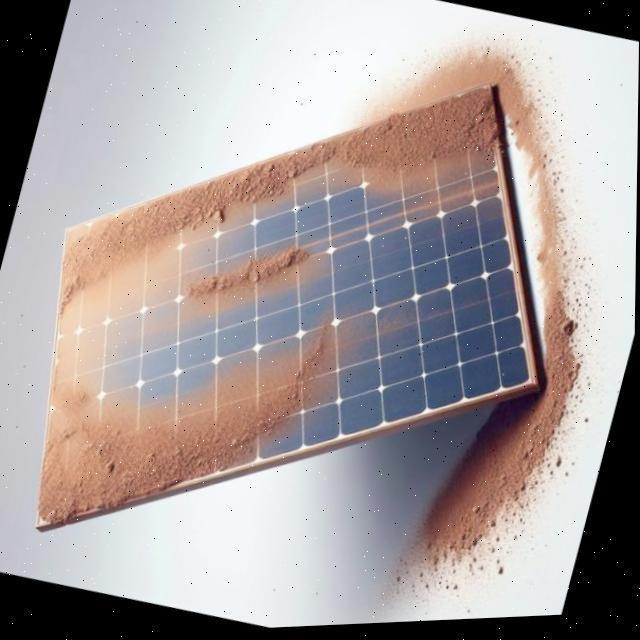Anomaly Solar Panel: (0, 87, 573, 556)
Surface Contaminant: (33, 84, 508, 321), (14, 311, 364, 525), (168, 234, 329, 335)
